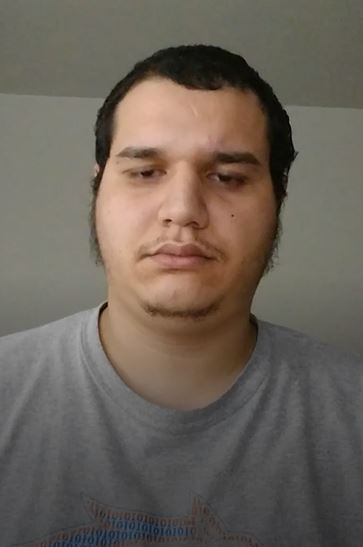Half Asleep: (100, 142, 278, 205)
